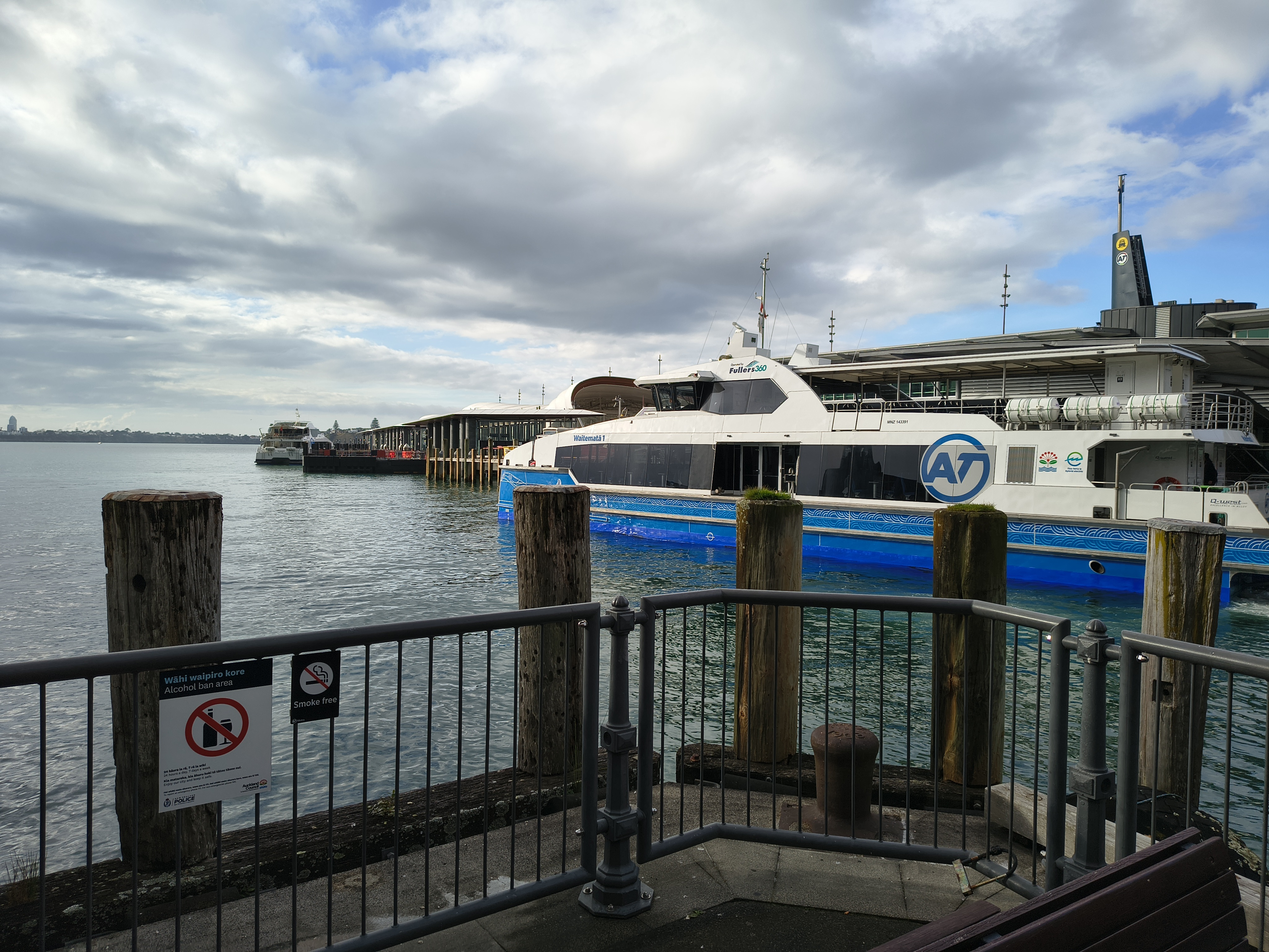ferry: (496, 332, 1269, 609), (256, 419, 323, 468)
